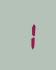one: (19, 20, 35, 49)
